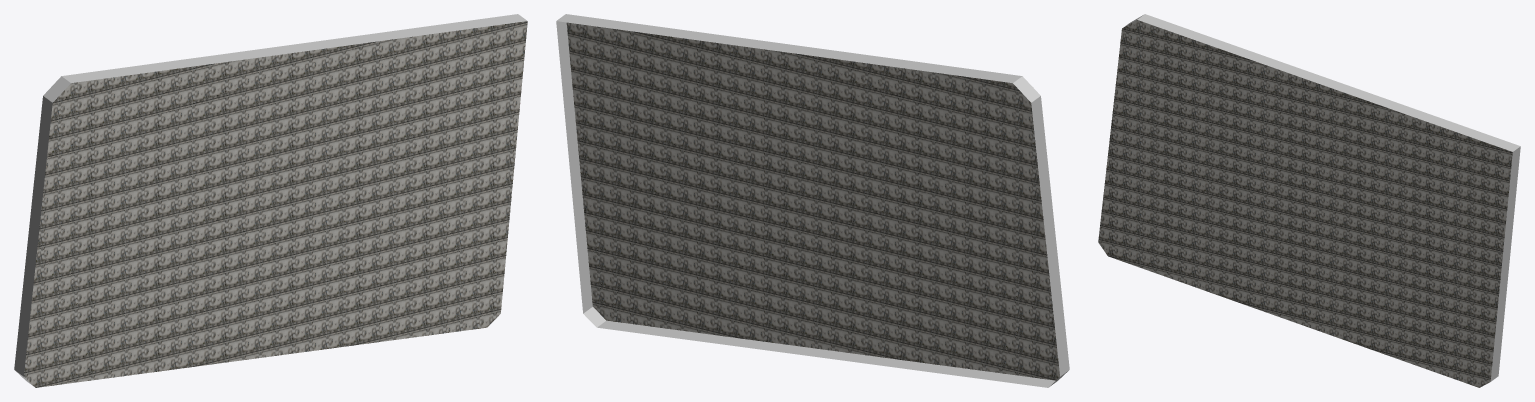
File: geospecific_240.obj
3 renders of one model, left to right at view 1: azimuth 30°, elevation 25°; view 2: azimuth 150°, elevation 25°; view 3: azimuth 330°, elevation 25°, orthographic. The views are drawn at different scales.
Visible parts, largest first — view 1: Building; view 2: Building; view 3: Building.
Part boxes in pixels (box(x1,y1,x2,y2)): Building: box(14, 14, 527, 387); Building: box(556, 14, 1069, 387); Building: box(1098, 14, 1520, 387).
Size of the model in its own units: 90.25 by 59.2 by 3.
